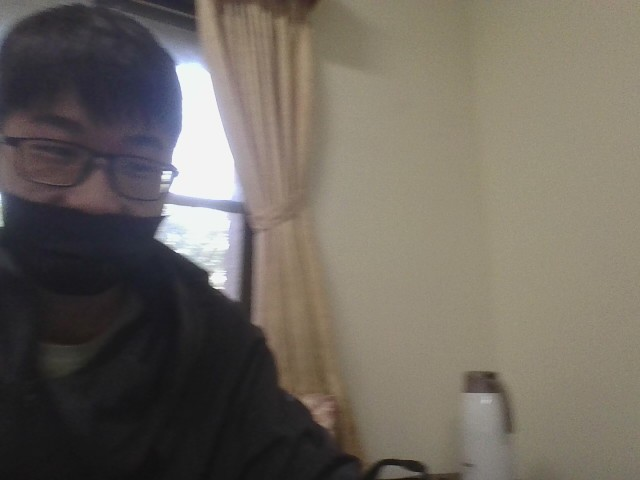No_Helmet: (0, 0, 188, 232)
person: (0, 0, 412, 480)
